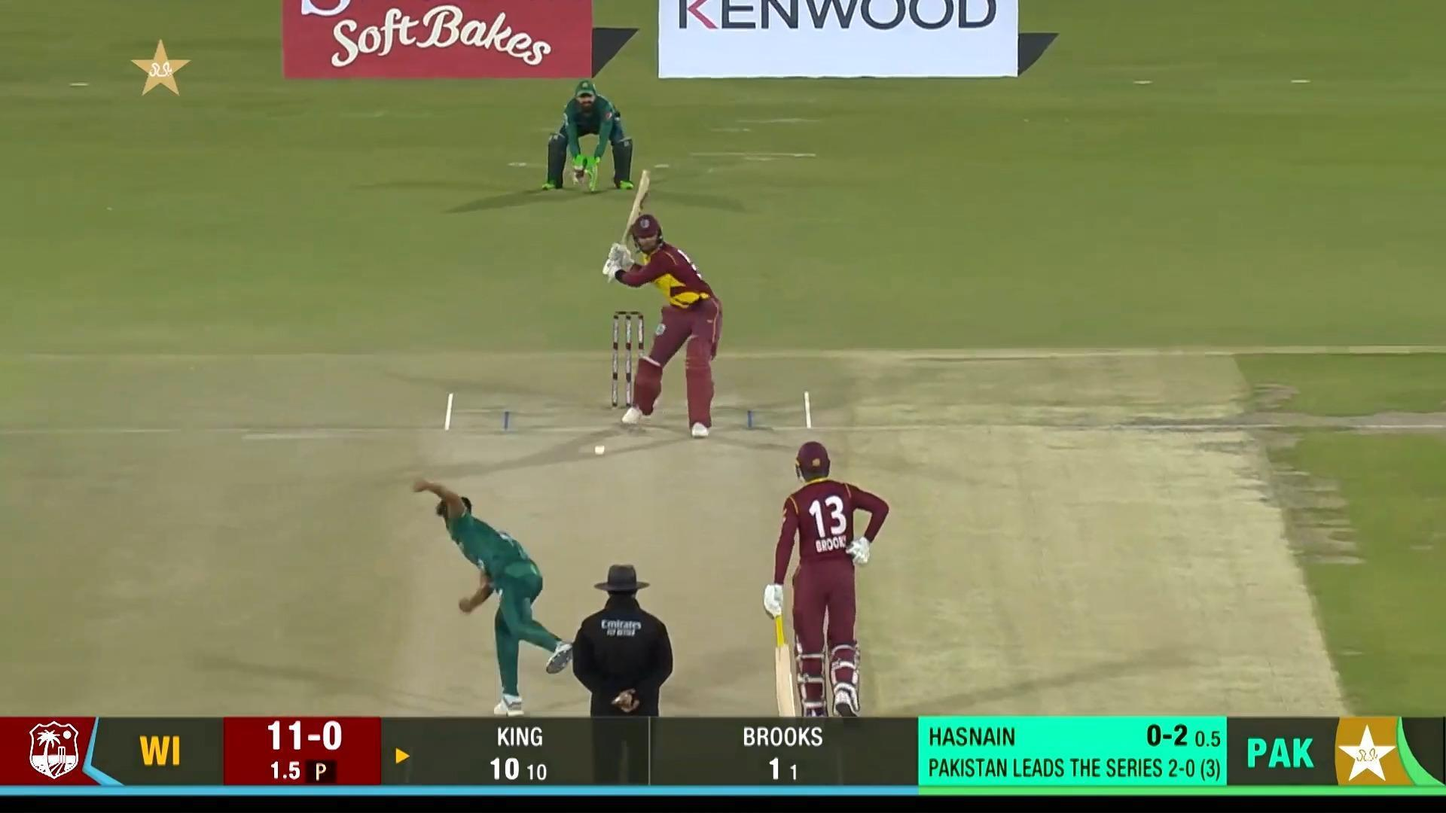BM 1: (602, 169, 723, 439)
BO: (410, 475, 576, 717)
